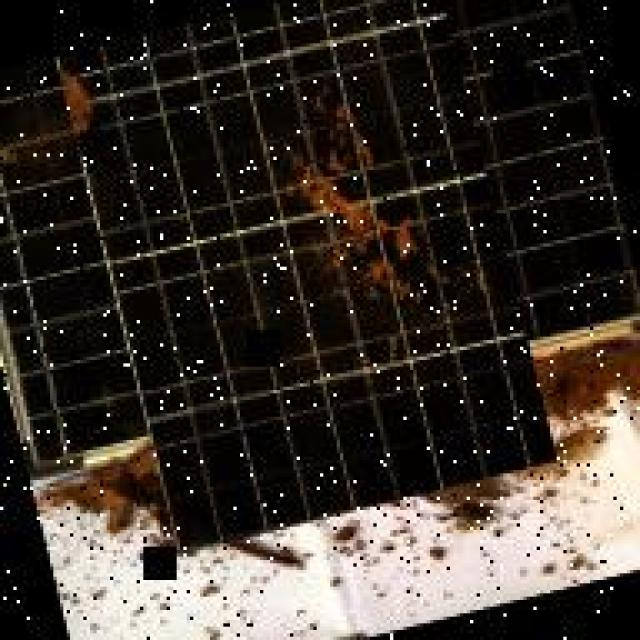dust-solar-panel: (0, 0, 630, 539)
